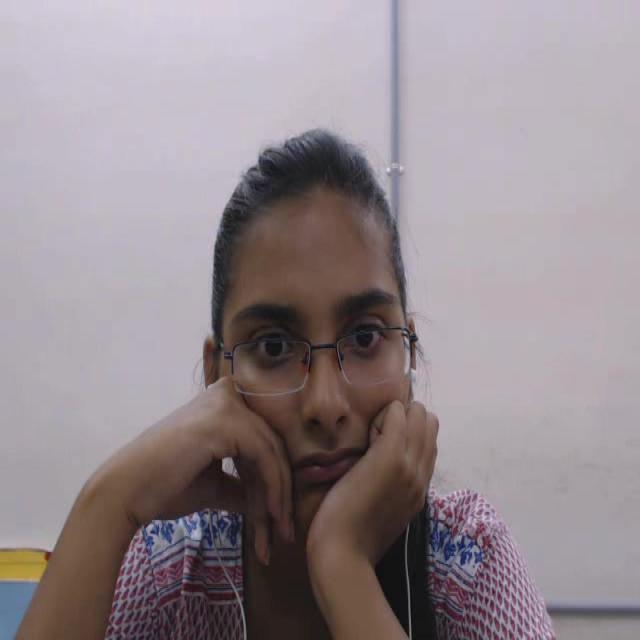Bored: (186, 110, 432, 550)
